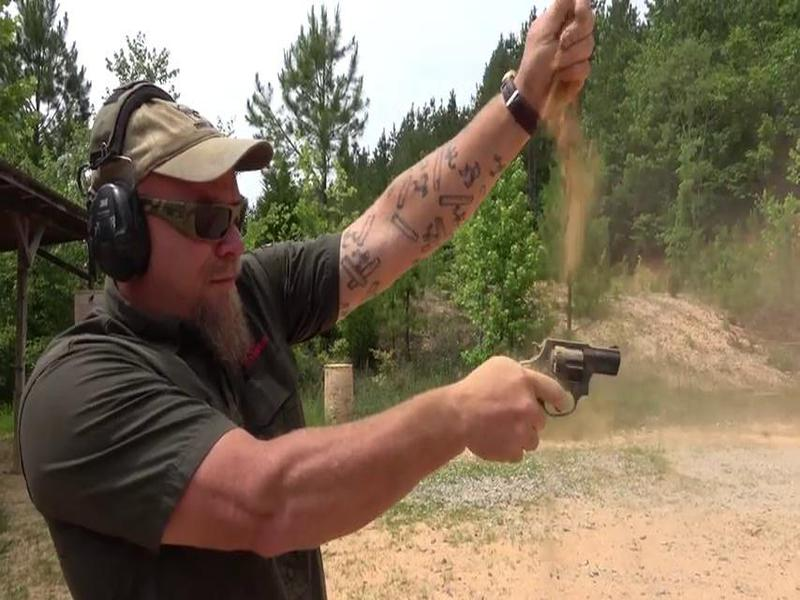Revolver: (512, 316, 631, 445)
